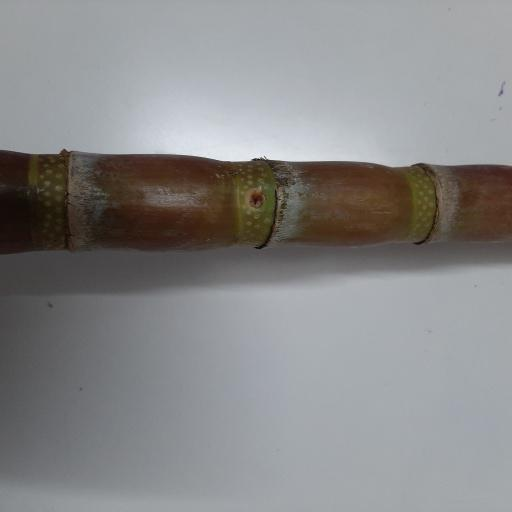Damage_Bud: (245, 187, 269, 212)
